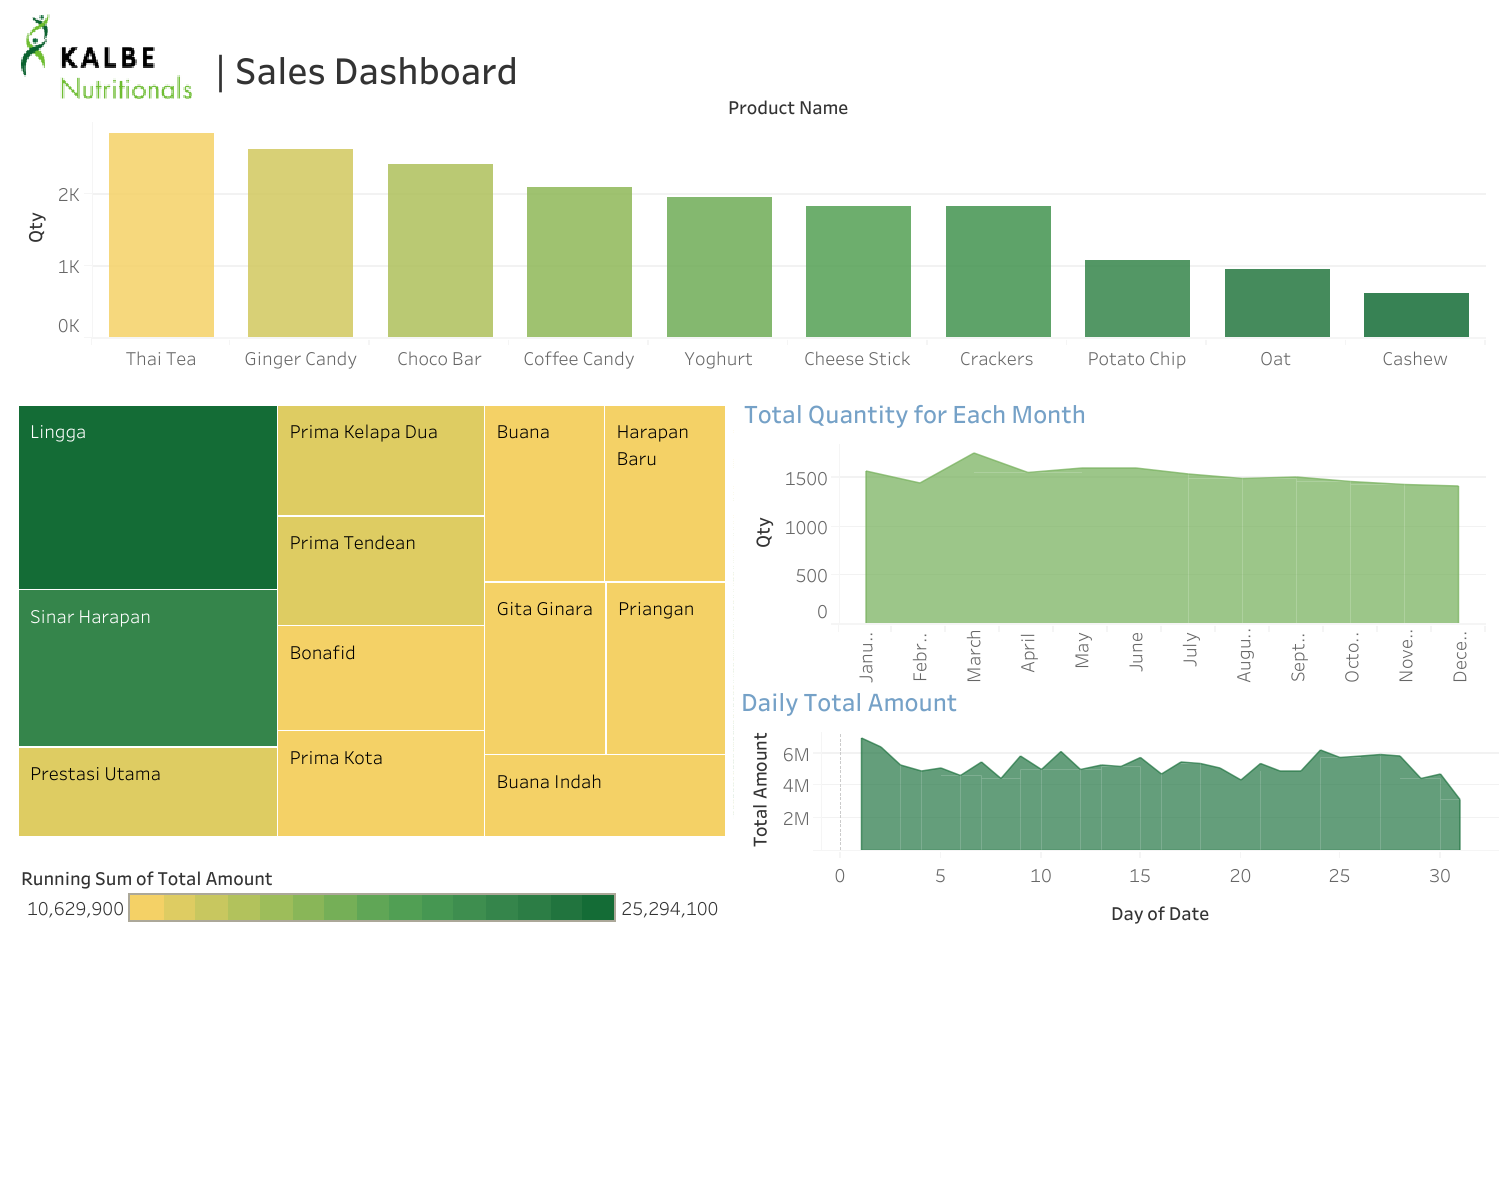

The page's visual inventory and layout, read from the dashboard file:
{"tool":"tableau","page":{"name":"Dashboard 1","canvas":[1000,800],"ordinal":0},"visuals":[{"type":"image","param":"Image/Kalbe_Nutritionals__PT_Sanghiang_Perkasa_-removebg-preview.png","box":[13,8,130,61]},{"type":"title","box":[140,25,225,41]},{"type":"worksheet","title":"Sheet 3","mark":"Automatic","rows":["Qty"],"cols":["Product Name"],"box":[7,61,983,204]},{"type":"worksheet","title":"Sheet 1","mark":"Area","rows":["Qty"],"cols":["Date"],"box":[492,258,498,199]},{"type":"worksheet","title":"Sheet 4","mark":"Automatic","box":[8,266,480,325]},{"type":"legend","title":"Sheet 4","param":"[federated.1sfcj8v13o4ie81acfcld00m5txt].[sum:TotalAmount:qk]","box":[478,285,160,149]},{"type":"worksheet","title":"Sheet 2","mark":"Area","rows":["TotalAmount"],"cols":["Date"],"box":[490,450,510,174]},{"type":"legend","title":"Sheet 4","param":"[federated.1sfcj8v13o4ie81acfcld00m5txt].[cum:sum:TotalAmount:qk]","box":[14,572,470,104]}]}

Visuals, with their boxes in screenshot pixels (x1, y1, x2, y2), scaled from the page's 1000x800 canvas onto the 1499x1199 screenshot:
image: 19, 12, 214, 103
title: 210, 37, 547, 99
"Sheet 3" worksheet: 10, 91, 1484, 397
"Sheet 1" worksheet (Area marks): 738, 387, 1484, 685
"Sheet 4" worksheet: 12, 399, 732, 886
"Sheet 4" legend: 717, 427, 956, 650
"Sheet 2" worksheet (Area marks): 735, 674, 1498, 935
"Sheet 4" legend: 21, 857, 726, 1013
